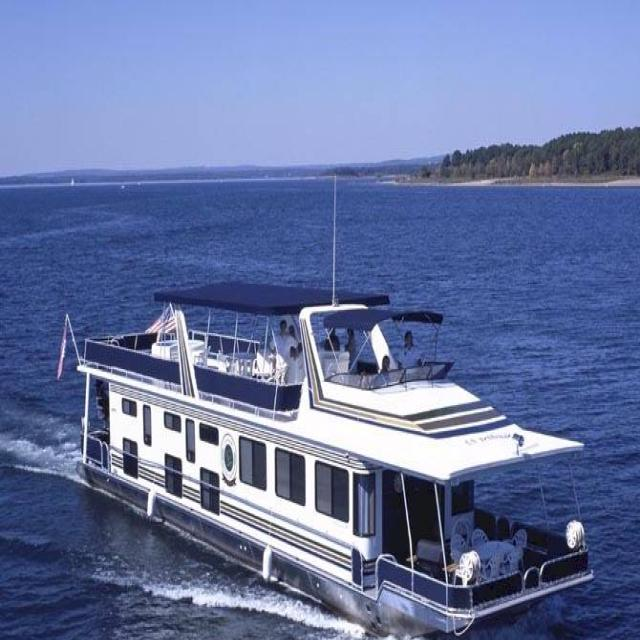passenger ship: (41, 265, 596, 637)
